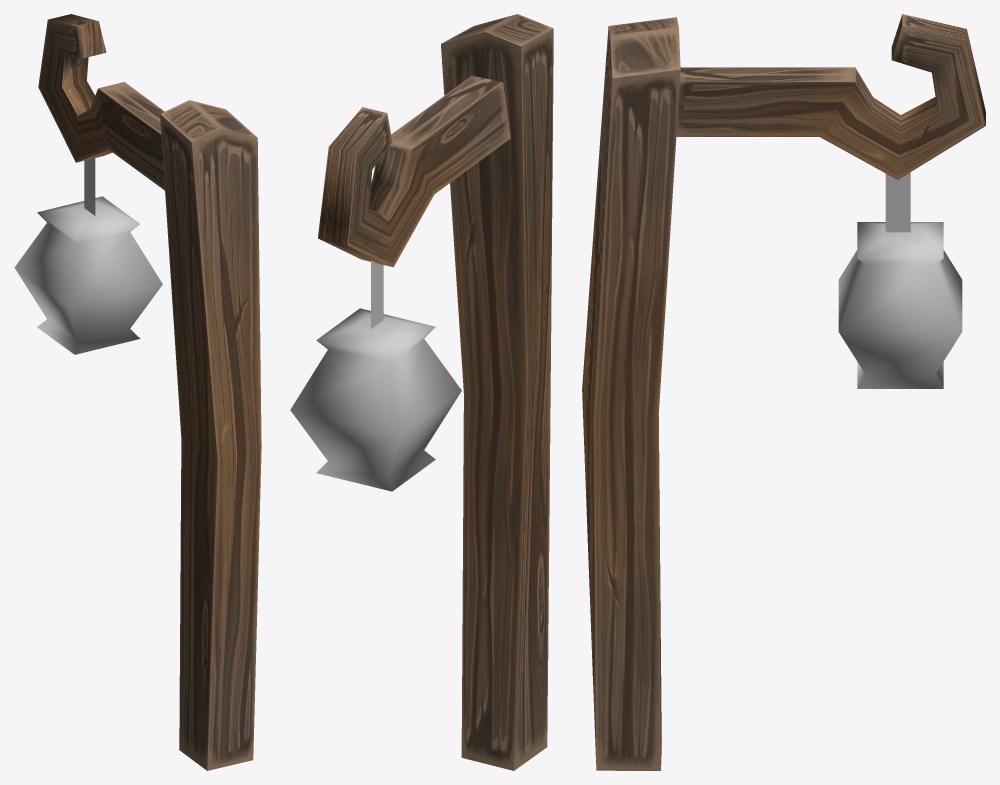
Rendered from lanternPostA.fbx.
3 views of the same model, side by side, from view 1: azimuth 30°, elevation 25°; view 2: azimuth 150°, elevation 25°; view 3: azimuth 270°, elevation 25° (orthographic). The views are drawn at different scales.
Parts seen in each view (by area): view 1: postA, lanternA, lantern_Chain; view 2: postA, lanternA, lantern_Chain; view 3: postA, lanternA, lantern_Chain.
Boxes of the visible parts, <box> form: postA: <box>38,14,261,770</box>; lanternA: <box>14,196,162,354</box>; lantern_Chain: <box>84,157,95,215</box>; postA: <box>318,14,553,770</box>; lanternA: <box>290,308,461,491</box>; lantern_Chain: <box>371,260,383,328</box>; postA: <box>582,14,985,770</box>; lanternA: <box>838,222,962,388</box>; lantern_Chain: <box>885,172,910,232</box>.
Size of the model in its own units: 47.81 by 313 by 156.
